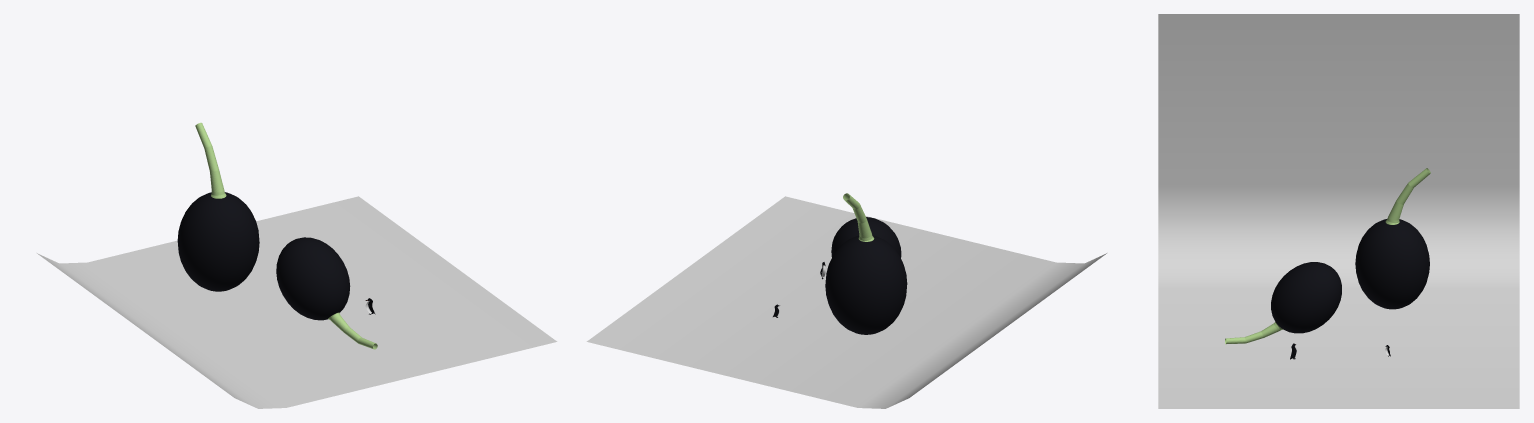
The model's file is blackberry.glb.
3 views of the same model, side by side, from view 1: azimuth 30°, elevation 25°; view 2: azimuth 150°, elevation 25°; view 3: azimuth 270°, elevation 25° (orthographic). The views are drawn at different scales.
Visible parts, largest first — view 1: Plane, Cube, Cube.001, Cylinder, Cylinder.001; view 2: Plane, Cube, Cube.001, Cylinder; view 3: Plane, Cube, Cube.001, Cylinder, Cylinder.001.
Part boxes in pixels (left/top/right/bottom): Plane: left=37, top=196, right=557, bottom=408; Cube: left=177, top=192, right=259, bottom=291; Cube.001: left=276, top=237, right=350, bottom=320; Cylinder: left=195, top=122, right=226, bottom=198; Cylinder.001: left=328, top=312, right=377, bottom=349; Plane: left=586, top=196, right=1106, bottom=408; Cube: left=825, top=235, right=907, bottom=334; Cube.001: left=831, top=217, right=901, bottom=257; Cylinder: left=843, top=193, right=874, bottom=241; Plane: left=1158, top=14, right=1519, bottom=408; Cube: left=1355, top=219, right=1429, bottom=309; Cube.001: left=1271, top=262, right=1341, bottom=333; Cylinder: left=1385, top=168, right=1430, bottom=224; Cylinder.001: left=1225, top=322, right=1282, bottom=344.
Size of the model in its own units: 9.69 by 7.18 by 9.69.
